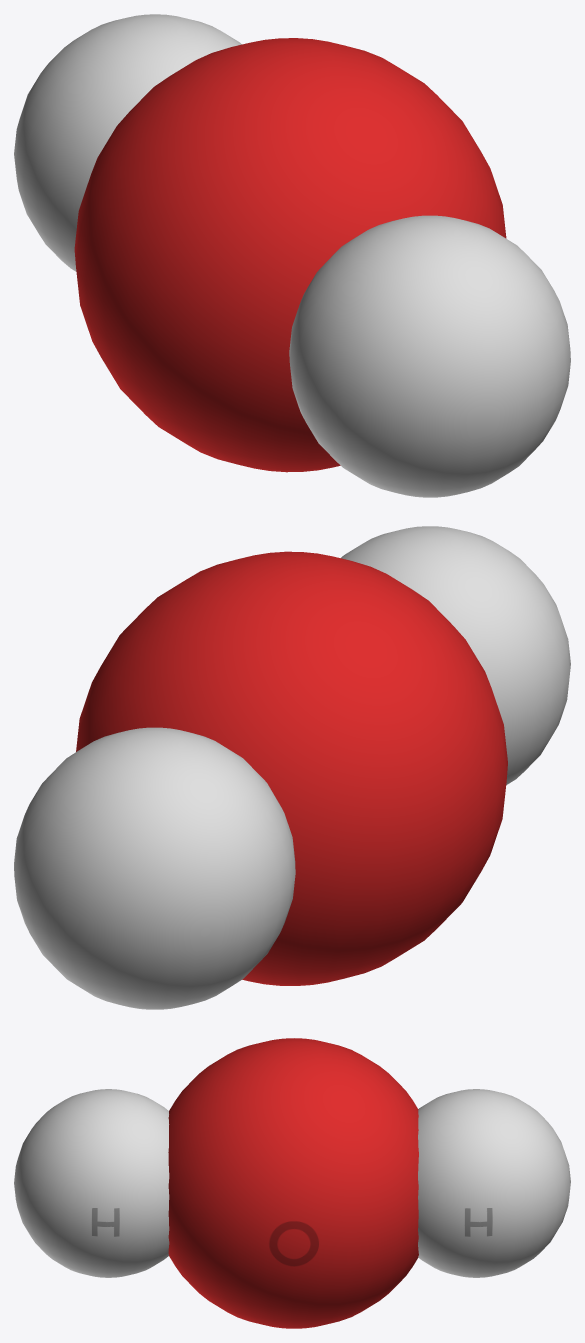
Rendered from water.gltf.
The picture shows the model from 3 angles, top to bottom: view 1: azimuth 30°, elevation 25°; view 2: azimuth 150°, elevation 25°; view 3: azimuth 270°, elevation 25°; orthographic projection. The views are drawn at different scales.
Parts seen in each view (by area): view 1: Sphere, Sphere.002, Sphere.001; view 2: Sphere, Sphere.001, Sphere.002; view 3: Sphere, Sphere.002, Sphere.001.
Part boxes in pixels (x1=…): Sphere: x1=74, y1=38, x2=506, y2=472; Sphere.002: x1=289, y1=215, x2=570, y2=497; Sphere.001: x1=14, y1=14, x2=241, y2=271; Sphere: x1=76, y1=551, x2=507, y2=985; Sphere.001: x1=14, y1=727, x2=295, y2=1009; Sphere.002: x1=341, y1=526, x2=570, y2=784; Sphere: x1=168, y1=1038, x2=418, y2=1328; Sphere.002: x1=14, y1=1089, x2=169, y2=1277; Sphere.001: x1=418, y1=1089, x2=570, y2=1277.
Size of the model in its own units: 2 by 2 by 3.83.
2 materials, 2 textured.
